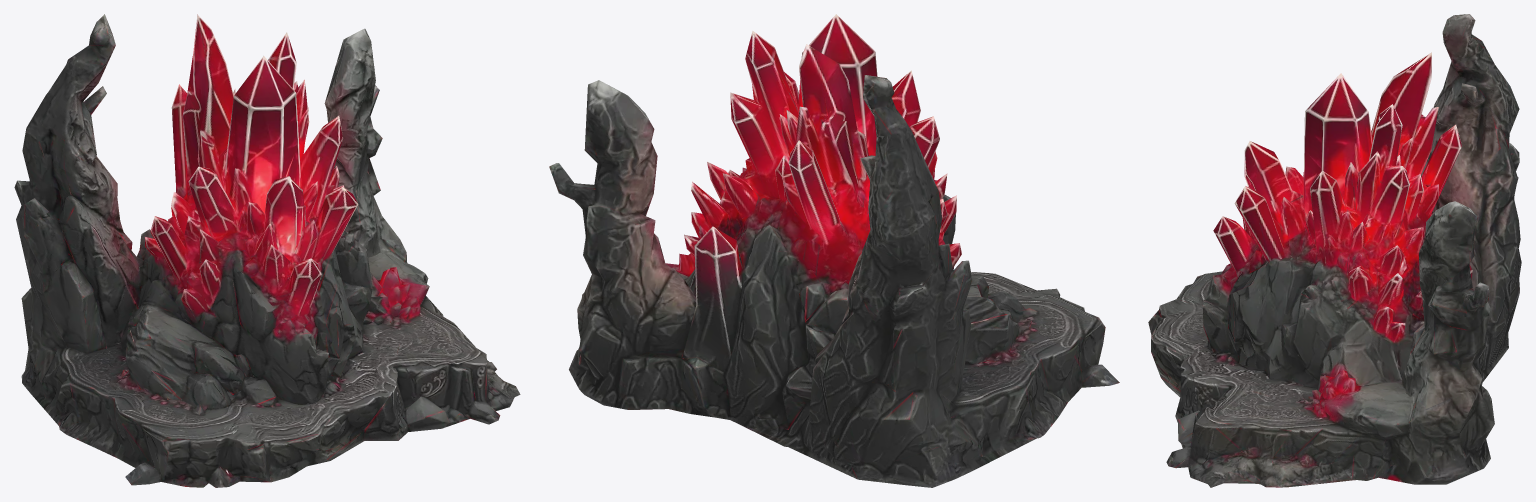
Rendered from citadel-crystal.glb.
3 renders of one model, left to right at view 1: azimuth 30°, elevation 25°; view 2: azimuth 150°, elevation 25°; view 3: azimuth 270°, elevation 25°, orthographic. The views are drawn at different scales.
Visible parts, largest first — view 1: Mesh1.0; view 2: Mesh1.0; view 3: Mesh1.0.
Part boxes in pixels (x1,y1,x2,y2): Mesh1.0: [14, 14, 520, 487]; Mesh1.0: [549, 14, 1119, 487]; Mesh1.0: [1148, 14, 1521, 487].
Bounding box in the file's own units: 1.89 × 1.62 × 1.61.
1 material, 1 textured.
